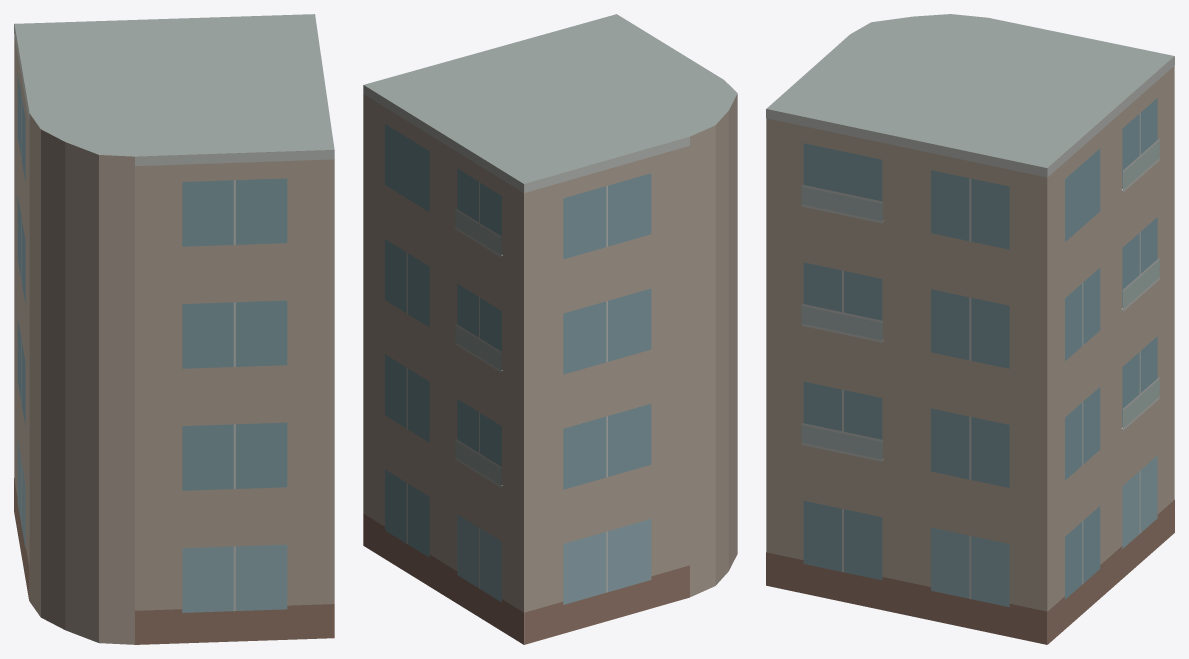
The model's file is survey-upis-32726189.glb.
3 views of the same model, side by side, from view 1: azimuth 30°, elevation 25°; view 2: azimuth 150°, elevation 25°; view 3: azimuth 270°, elevation 25° (orthographic). The views are drawn at different scales.
Parts seen in each view (by area): view 1: survey-upis-32726189.tmp; view 2: survey-upis-32726189.tmp; view 3: survey-upis-32726189.tmp.
Boxes of the visible parts, <box> form: survey-upis-32726189.tmp: <box>14,14,334,644</box>; survey-upis-32726189.tmp: <box>363,14,737,644</box>; survey-upis-32726189.tmp: <box>766,14,1174,644</box>.
Bounding box in the file's own units: 8.61 × 12.4 × 9.64.
